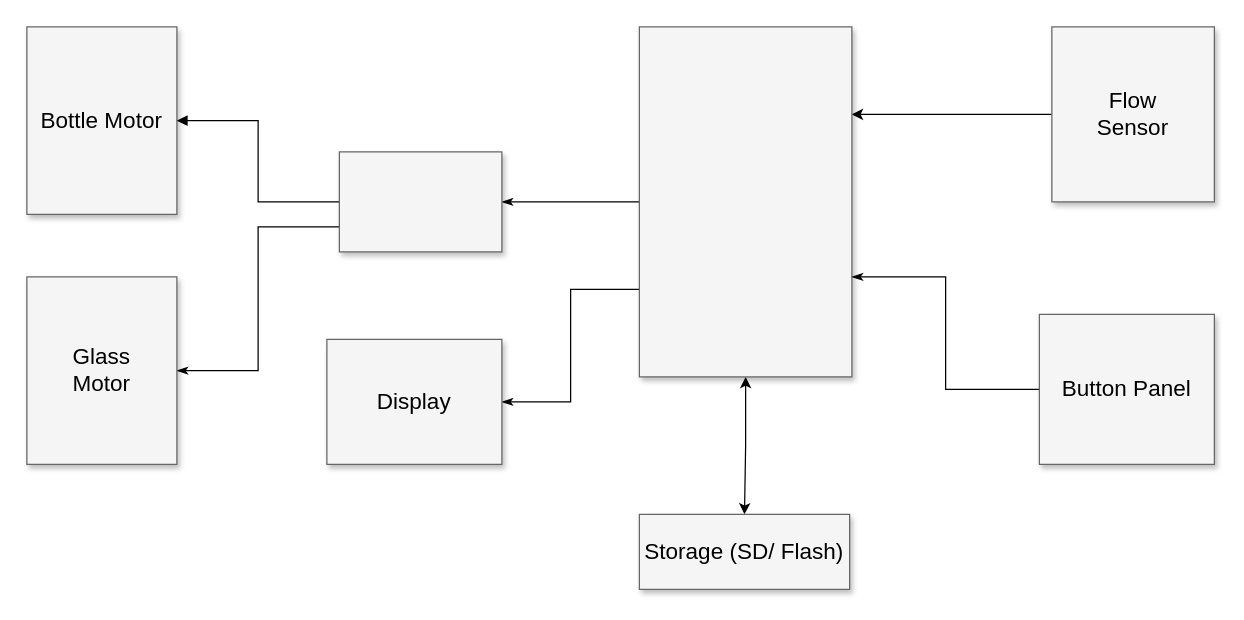
Some shapes in this 1244 by 620 pixel diagram are drawn without their labels. The centre of each missing label's shape, as x and y in pixels:
"Motor Controller" belongs at (421,203).
"Processor" belongs at (746,203).
